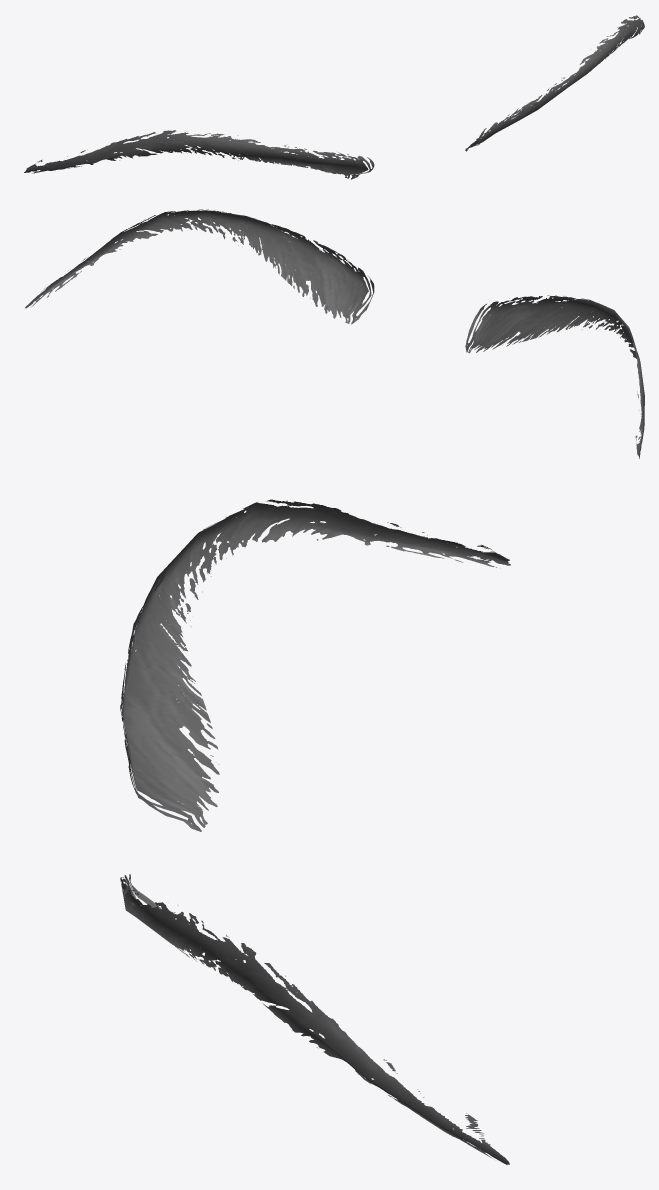
Rendered from brow002.glb.
The picture shows the model from 3 angles, top to bottom: view 1: azimuth 30°, elevation 25°; view 2: azimuth 150°, elevation 25°; view 3: azimuth 270°, elevation 25°; orthographic projection. The views are drawn at different scales.
Visible parts, largest first — view 1: editor_brow002; view 2: editor_brow002; view 3: editor_brow002.
Boxes of the visible parts, x1=… form: editor_brow002: x1=24, y1=15, x2=644, y2=179; editor_brow002: x1=25, y1=209, x2=644, y2=458; editor_brow002: x1=120, y1=499, x2=510, y2=1164.
Bounding box in the file's own units: 0.1105 × 0.0141 × 0.0322.
1 material, 1 textured.
